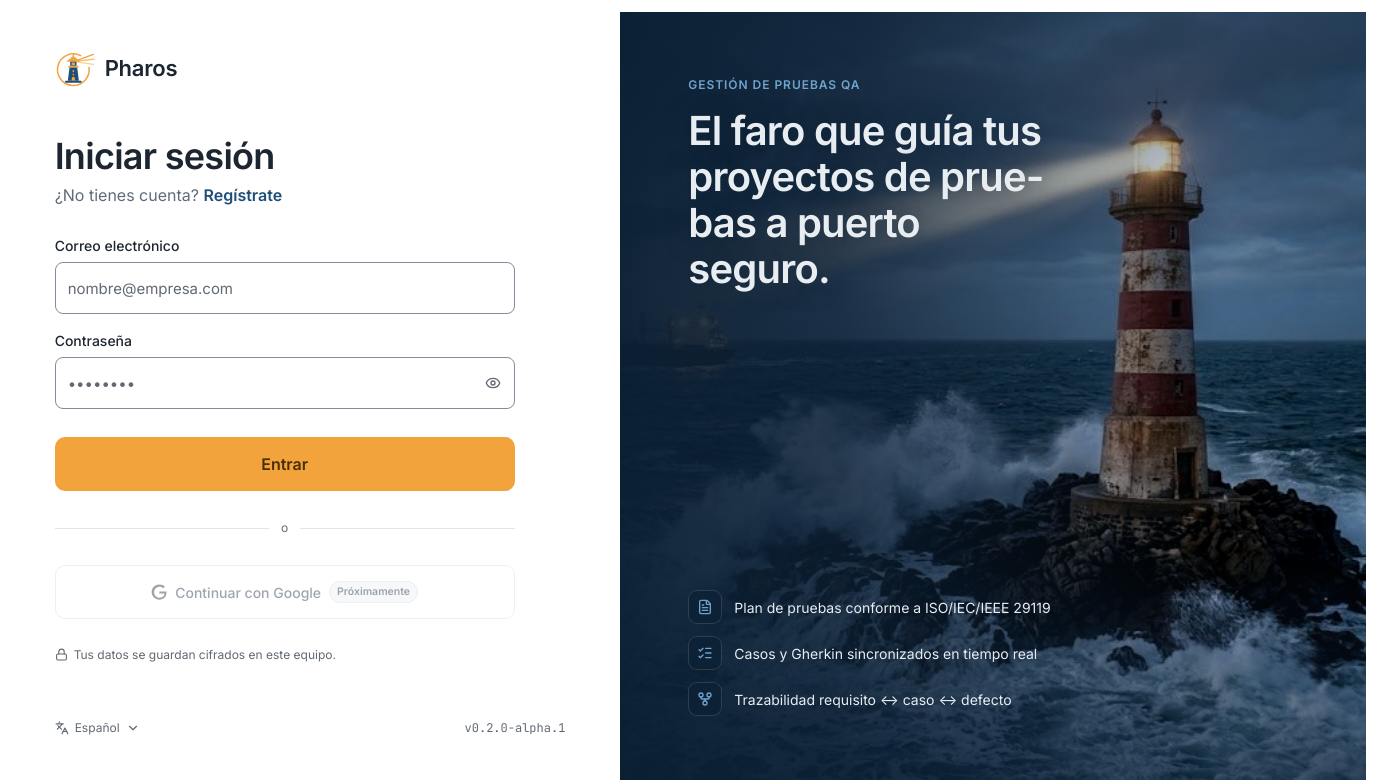
Test: auth screen › explains the login attempt limit (429 rate_limited)
Type "qa@pharos.dev" into the field labelled "Correo electrónico".
click(285, 288); type("qa@pharos.dev")  # box [55,262,515,314]
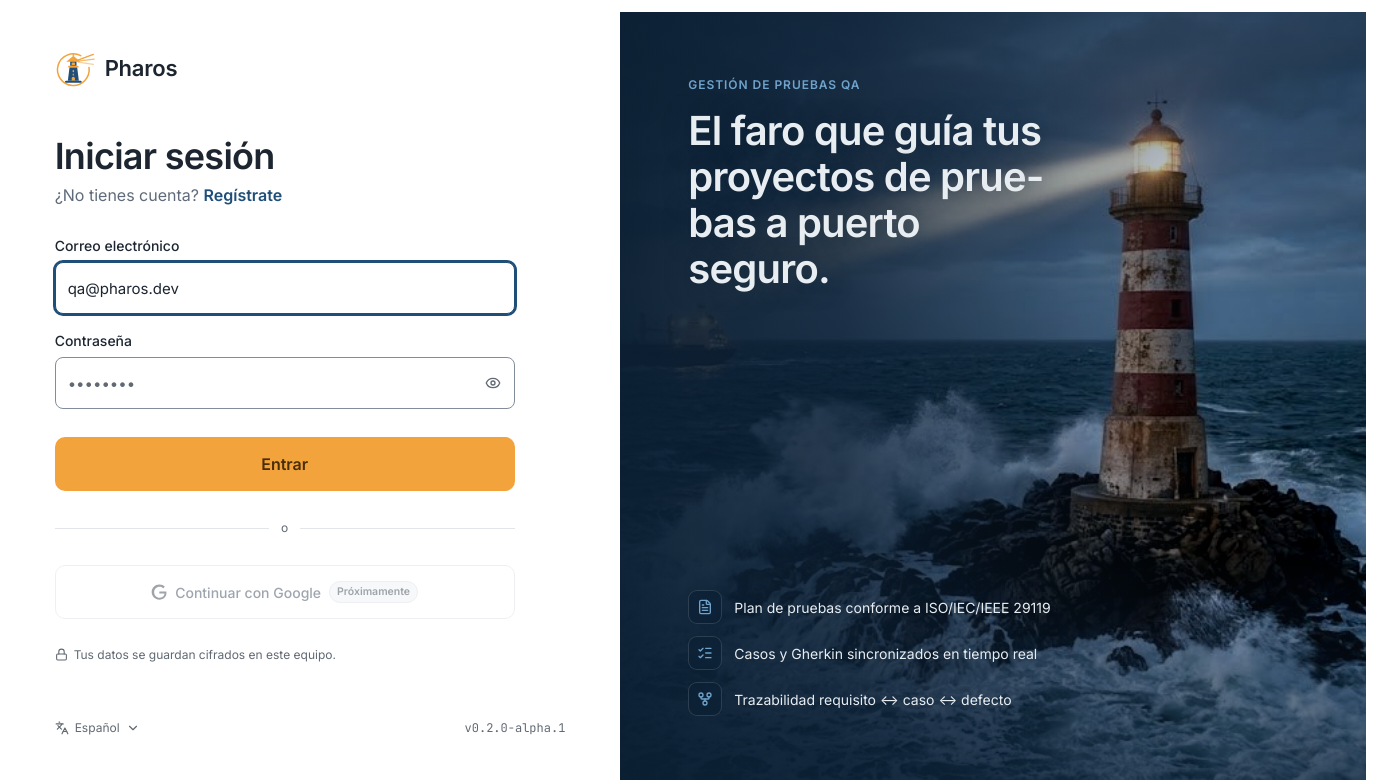
Type "wrongpass" into the password field labelled "Contraseña".
click(285, 383); type("wrongpass")  # box [55,357,515,409]
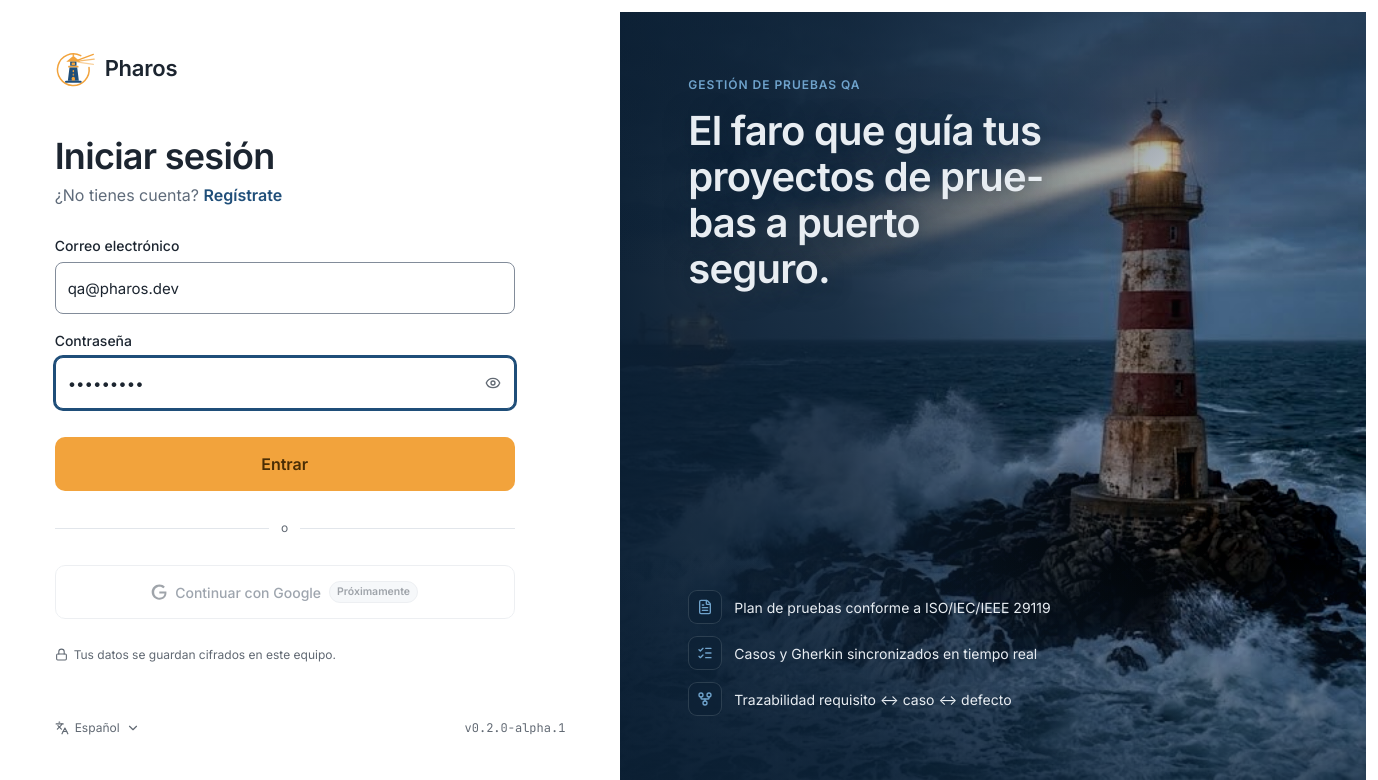
Click the button "Entrar".
click(285, 464)  # box [55,437,515,491]
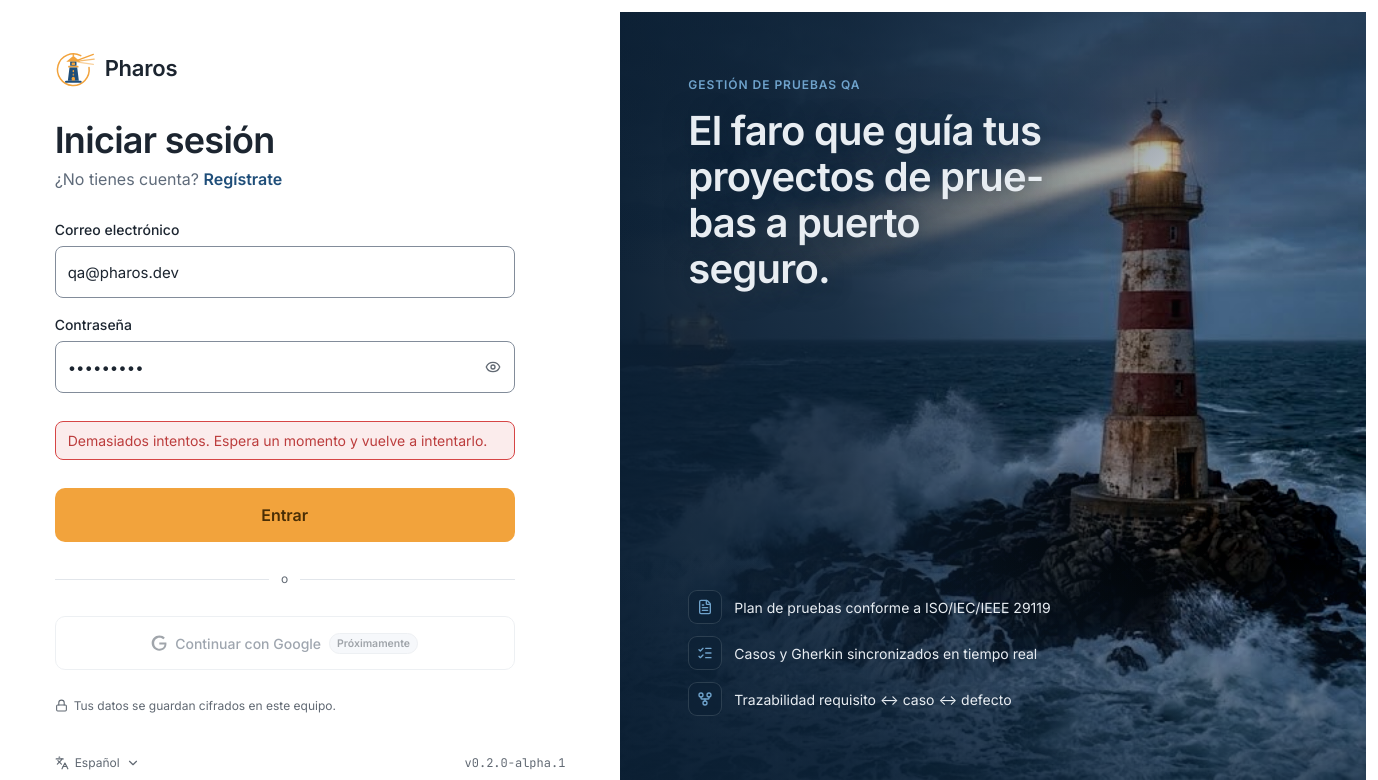
Result: the message reads "Demasiados intentos. Espera un momento y vuelve a intentarlo." at [68,432,487,449]
